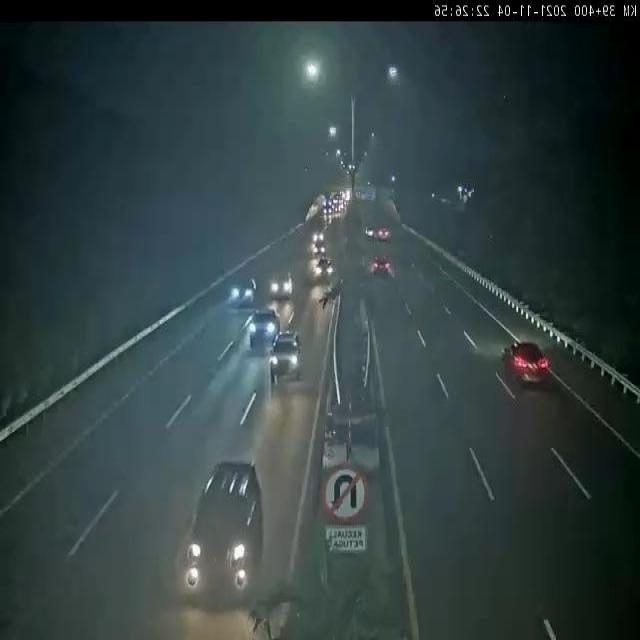Car: (177, 452, 269, 602), (504, 336, 552, 390), (269, 330, 303, 385), (247, 305, 279, 347), (228, 277, 257, 307), (268, 269, 294, 298), (314, 256, 336, 284), (374, 256, 392, 277), (377, 225, 392, 242), (310, 242, 328, 256), (311, 230, 325, 241)
